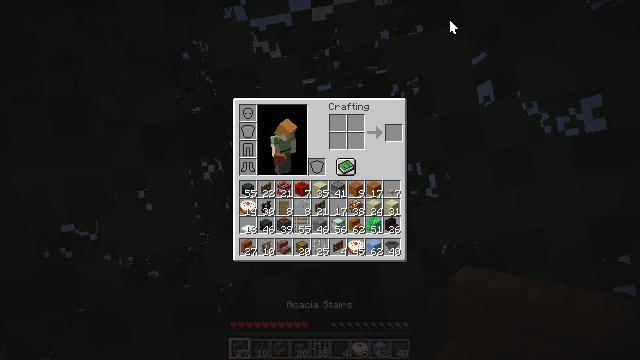cursor: (449, 19, 459, 35)
